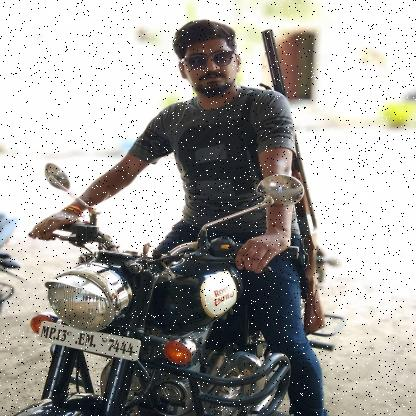rifle: (258, 27, 328, 337)
